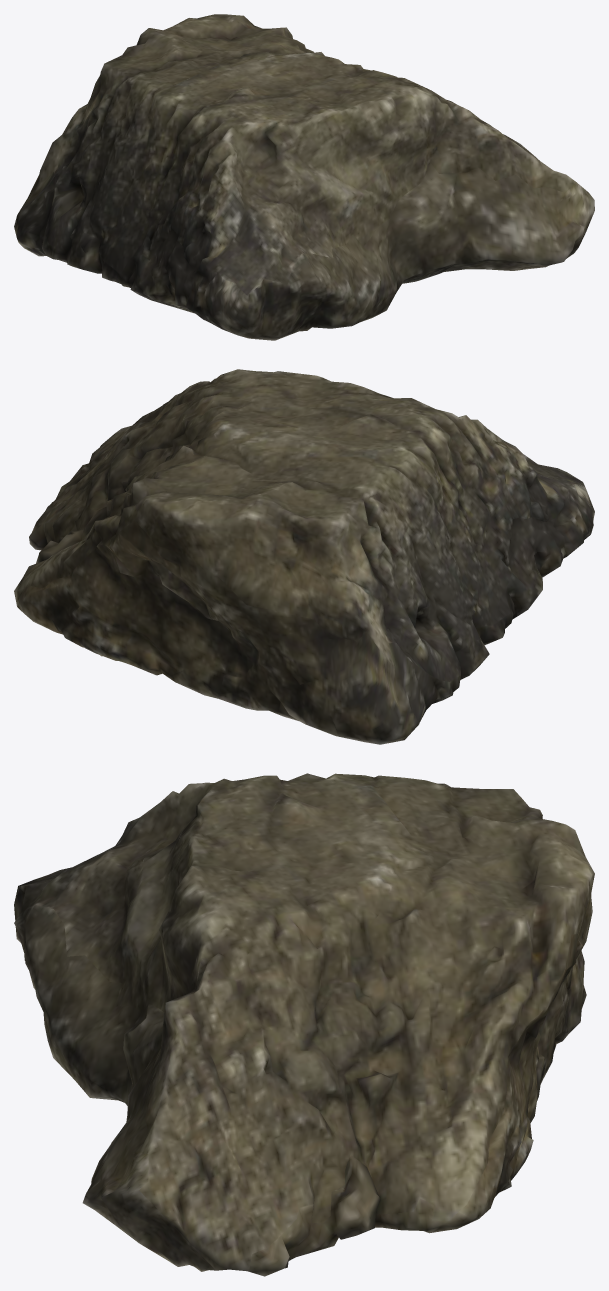
The model's file is Scan_MossStone_B.fbx.
3 renders of one model, top to bottom at view 1: azimuth 30°, elevation 25°; view 2: azimuth 150°, elevation 25°; view 3: azimuth 270°, elevation 25°, orthographic. The views are drawn at different scales.
Parts seen in each view (by area): view 1: Scan_MossStone_B_LOD0; view 2: Scan_MossStone_B_LOD0; view 3: Scan_MossStone_B_LOD0.
Part boxes in pixels (x1,y1,x2,y2): Scan_MossStone_B_LOD0: (14,14,594,340); Scan_MossStone_B_LOD0: (14,369,594,744); Scan_MossStone_B_LOD0: (14,773,594,1276).
Size of what is drawn, in the model's own units: 1.21 by 0.5278 by 0.9835.
